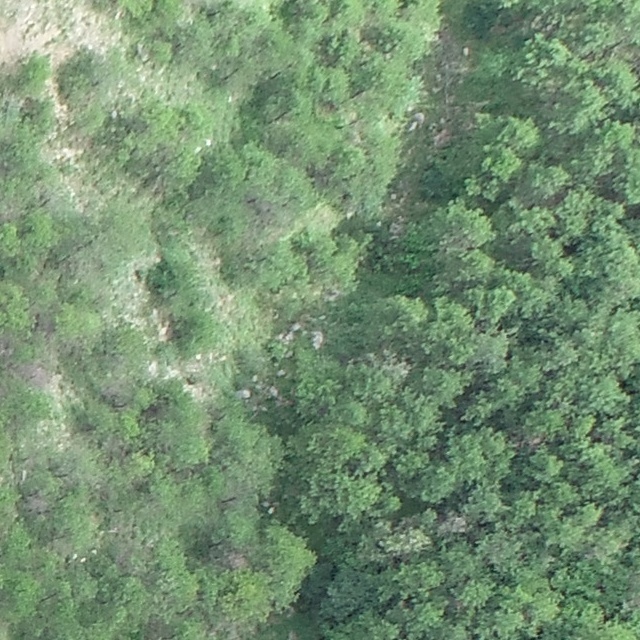unhealthy: (17, 363, 52, 389), (435, 509, 469, 535), (219, 549, 251, 571), (24, 491, 52, 513)
